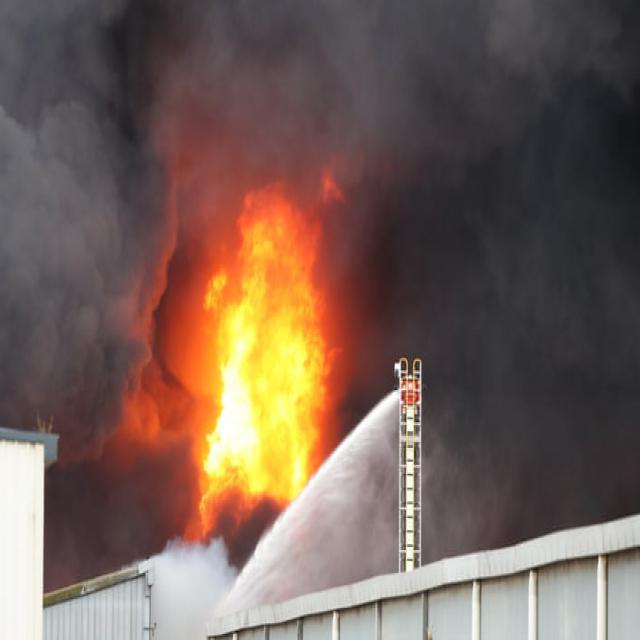fire: (185, 162, 350, 546)
